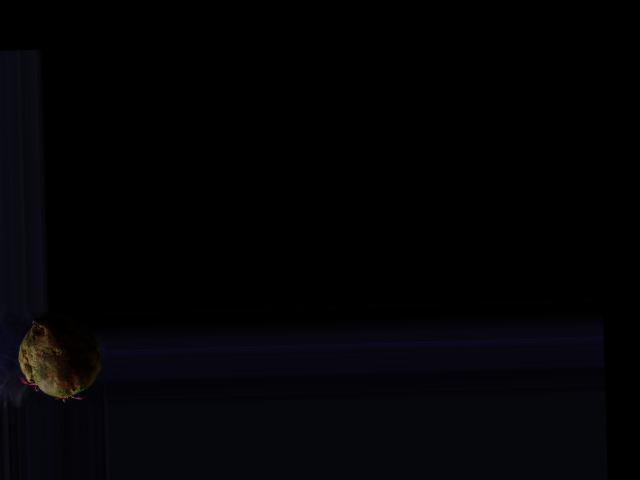beet: (16, 312, 101, 402)
